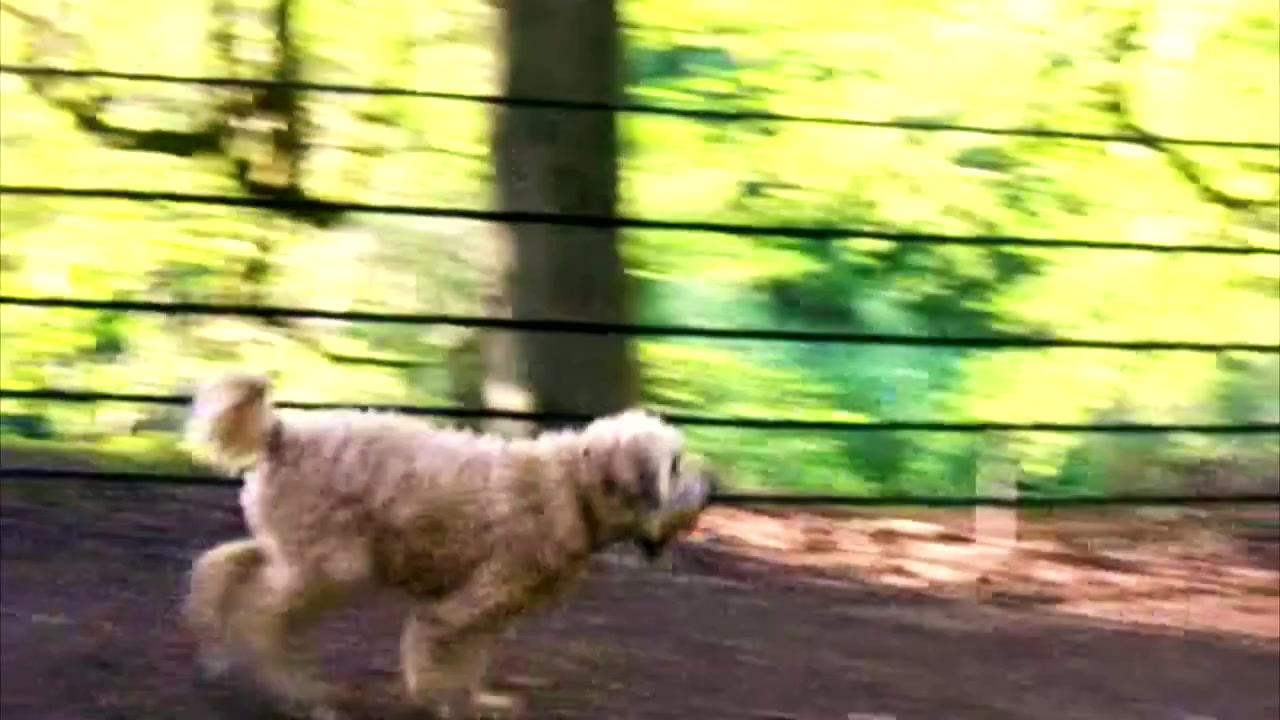dog: (175, 375, 720, 720)
